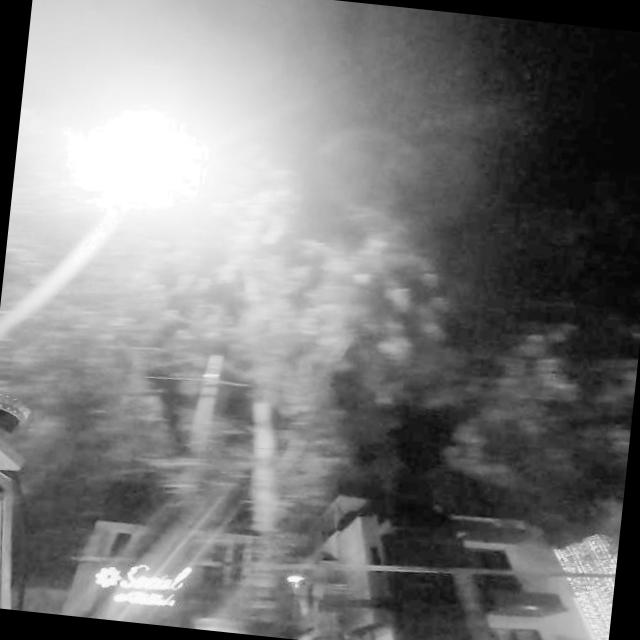Light: (54, 91, 232, 231)
